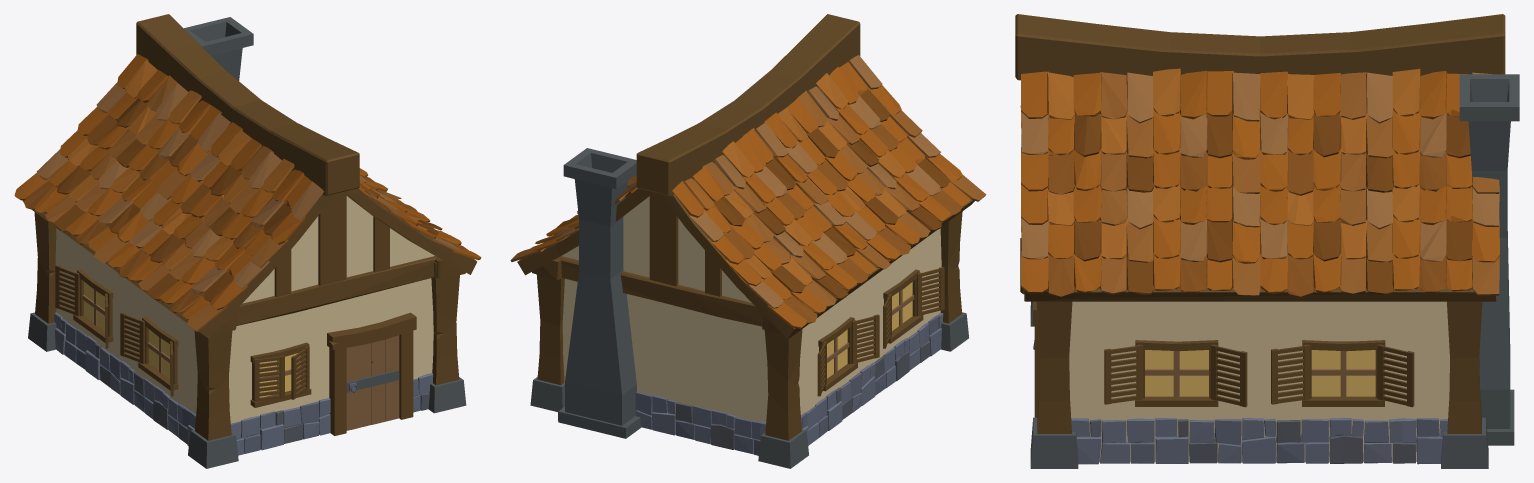
Rendered from House_07.fbx.
3 views of the same model, side by side, from view 1: azimuth 30°, elevation 25°; view 2: azimuth 150°, elevation 25°; view 3: azimuth 270°, elevation 25° (orthographic). The views are drawn at different scales.
Parts seen in each view (by area): view 1: House_07; view 2: House_07; view 3: House_07.
Part boxes in pixels (bbox=[...]): House_07: bbox=[14, 14, 481, 468]; House_07: bbox=[510, 14, 986, 468]; House_07: bbox=[1015, 14, 1519, 468].
Bounding box in the file's own units: 5.87 × 5.47 × 6.84.
